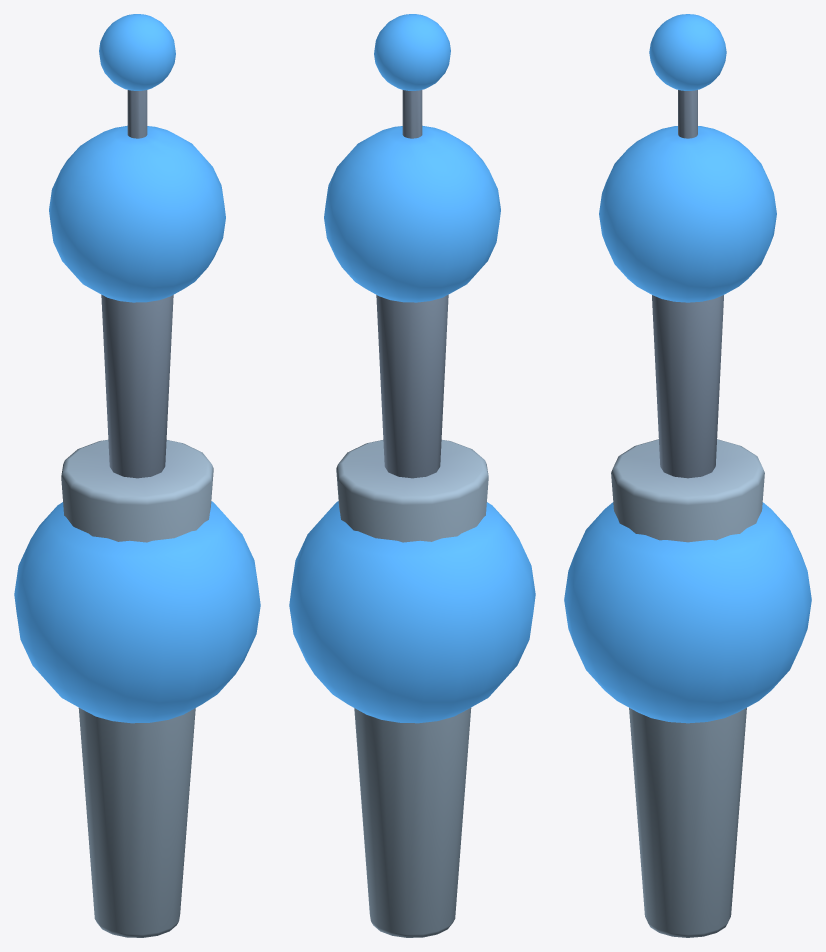
The picture shows the model from 3 angles, left to right: view 1: azimuth 30°, elevation 25°; view 2: azimuth 150°, elevation 25°; view 3: azimuth 270°, elevation 25°; orthographic projection.
Parts seen in each view (by area): view 1: landmark_bbd7e095; view 2: landmark_bbd7e095; view 3: landmark_bbd7e095.
Boxes of the visible parts, x1=… form: landmark_bbd7e095: x1=14, y1=14, x2=260, y2=937; landmark_bbd7e095: x1=289, y1=14, x2=535, y2=937; landmark_bbd7e095: x1=564, y1=14, x2=811, y2=937.
Bounding box in the file's own units: 3.2 × 12.9 × 3.2.
